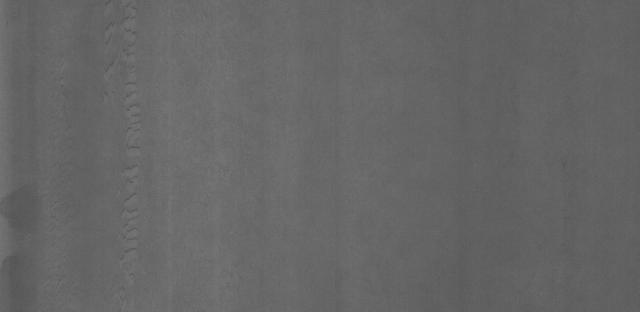silk_spot: (97, 5, 155, 296)
